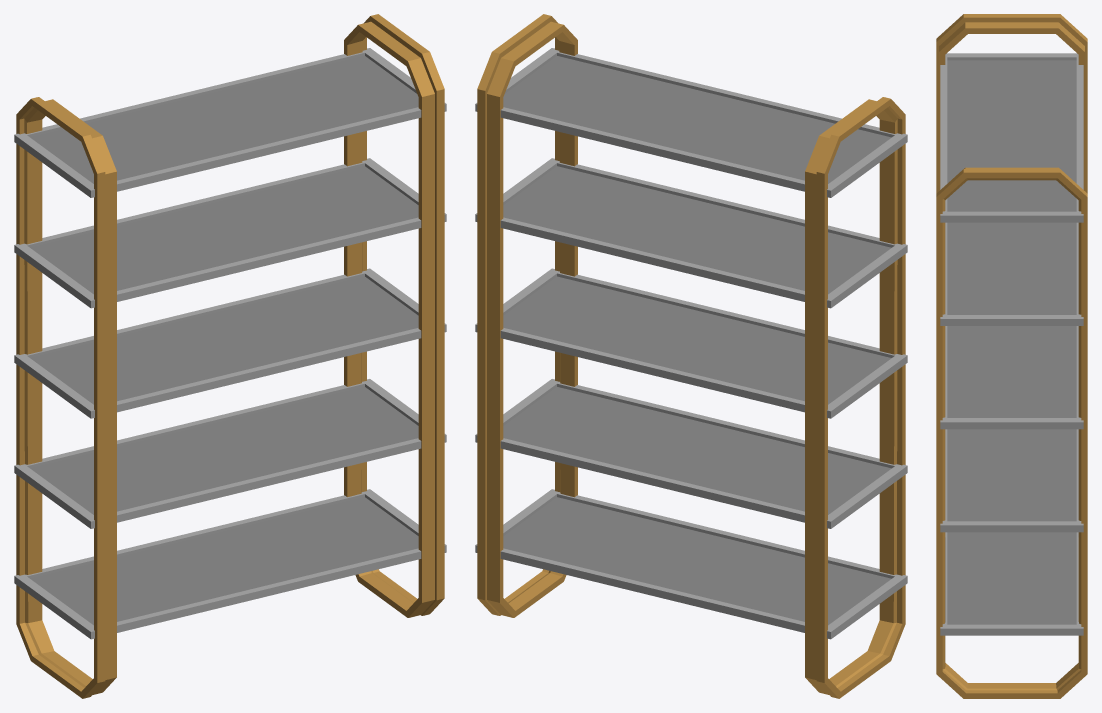
Rendered from props_shelf_tall.glb.
3 views of the same model, side by side, from view 1: azimuth 30°, elevation 25°; view 2: azimuth 150°, elevation 25°; view 3: azimuth 270°, elevation 25° (orthographic). The views are drawn at different scales.
Visible parts, largest first — view 1: Props_Shelf_Tall; view 2: Props_Shelf_Tall; view 3: Props_Shelf_Tall.
Boxes of the visible parts, x1,y1,x2,y2 form: Props_Shelf_Tall: (14,14,446,698); Props_Shelf_Tall: (475,14,907,698); Props_Shelf_Tall: (936,14,1087,698).
Size of the model in its own units: 2.06 by 3.11 by 0.8108.
